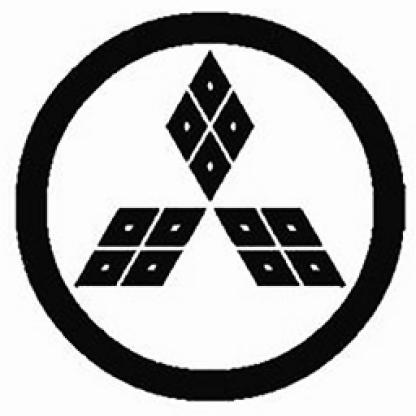kamon: (8, 8, 406, 403)
